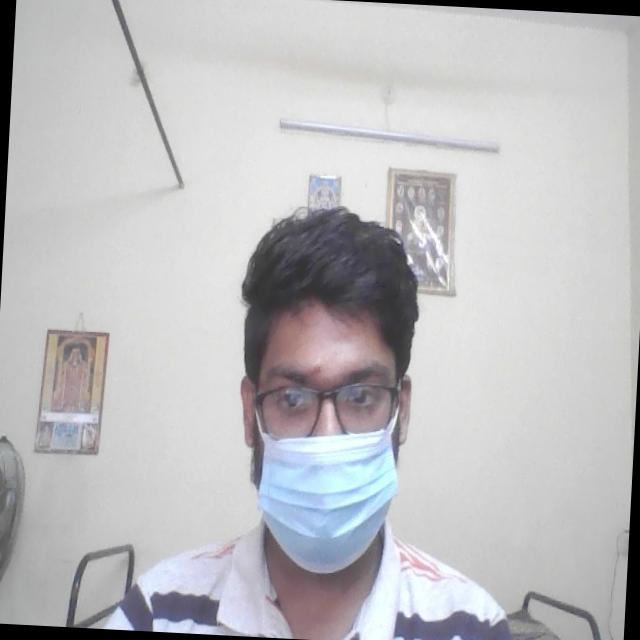Focused: (222, 294, 422, 556)
